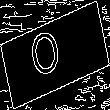O_S: (36, 24, 74, 86)
